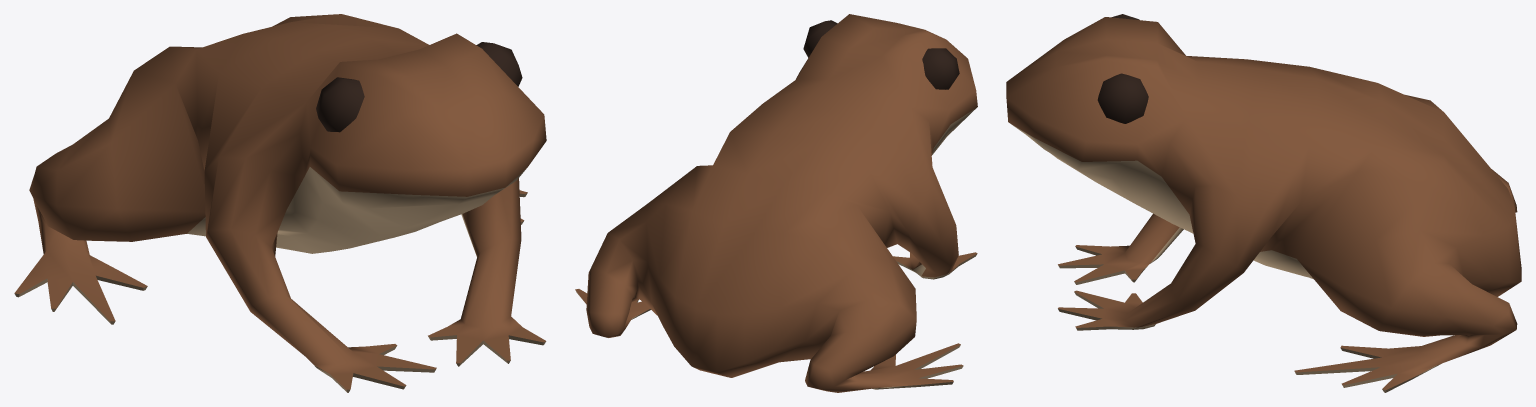
File: itch_assetquest_pond_frog_2.glb
3 views of the same model, side by side, from view 1: azimuth 30°, elevation 25°; view 2: azimuth 150°, elevation 25°; view 3: azimuth 270°, elevation 25° (orthographic). The views are drawn at different scales.
Visible parts, largest first — view 1: Frog_2; view 2: Frog_2; view 3: Frog_2.
Part boxes in pixels (box(x1,y1,x2,y2)): Frog_2: box(14, 14, 546, 392); Frog_2: box(575, 14, 977, 392); Frog_2: box(1006, 14, 1521, 392).
Size of the model in its own units: 0.9159 by 0.5168 by 0.96.
